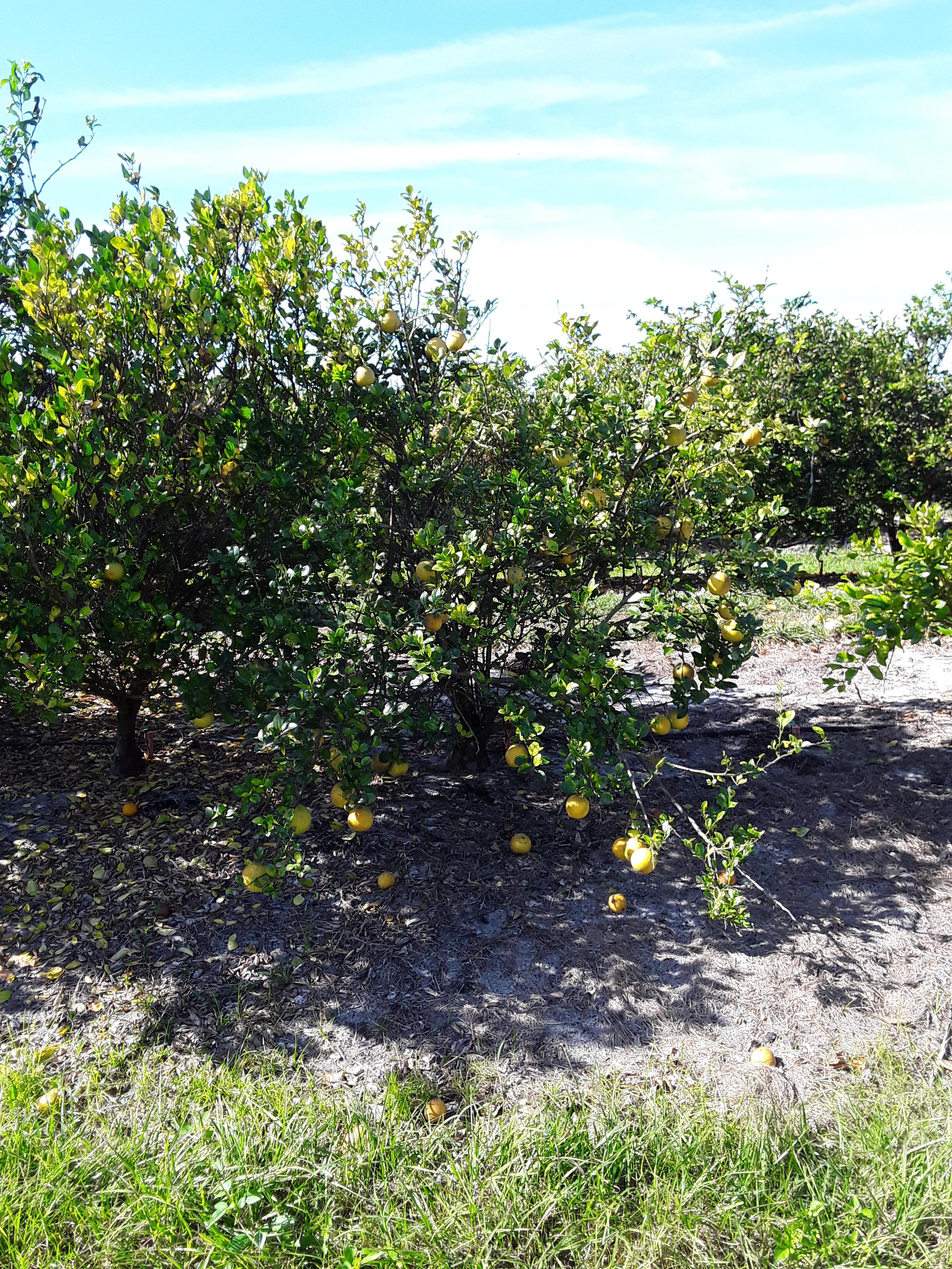fruit_on_ground: (239, 858, 276, 894), (283, 804, 313, 836), (326, 741, 356, 772), (328, 780, 359, 810), (502, 741, 532, 771), (346, 804, 376, 833), (563, 790, 592, 820), (577, 486, 608, 514), (414, 558, 443, 586), (622, 836, 650, 864), (629, 847, 658, 874), (705, 569, 732, 596), (422, 335, 448, 363), (550, 442, 577, 468), (660, 422, 687, 448), (378, 307, 403, 334), (387, 754, 412, 780), (649, 514, 674, 540), (102, 559, 128, 584), (366, 748, 390, 775), (705, 649, 730, 674), (352, 363, 377, 388), (611, 835, 635, 861), (190, 707, 217, 730), (699, 362, 723, 387), (648, 712, 672, 736), (445, 327, 468, 352), (721, 621, 746, 644), (536, 535, 560, 558), (504, 563, 528, 586), (556, 544, 579, 567), (741, 425, 764, 448), (675, 515, 696, 540), (671, 661, 696, 682), (717, 598, 740, 620), (678, 385, 700, 408), (430, 422, 452, 444), (668, 708, 690, 730), (422, 610, 443, 633), (734, 484, 756, 504), (525, 441, 548, 460), (480, 526, 502, 545), (781, 578, 804, 596)
fruit_on_tree: (748, 1043, 778, 1070), (422, 1096, 449, 1125), (507, 830, 534, 857), (604, 891, 630, 916), (37, 1091, 62, 1114), (714, 867, 738, 889), (830, 1052, 852, 1073), (376, 869, 397, 890), (845, 1054, 866, 1073), (121, 799, 139, 818)
